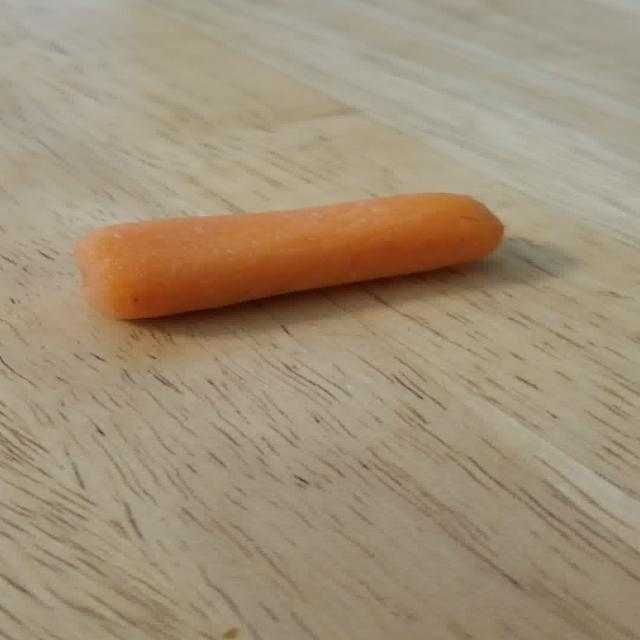carrot: (74, 194, 504, 319)
